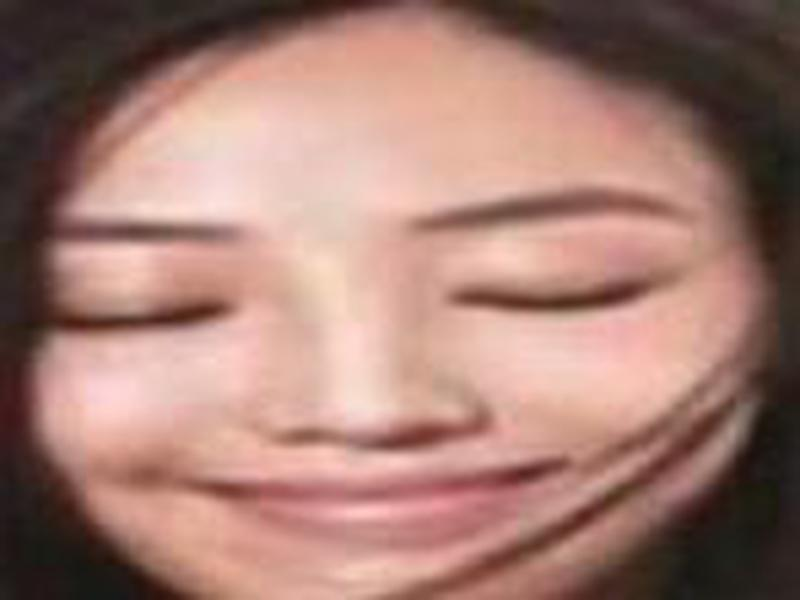without_mask: (23, 91, 761, 600)
